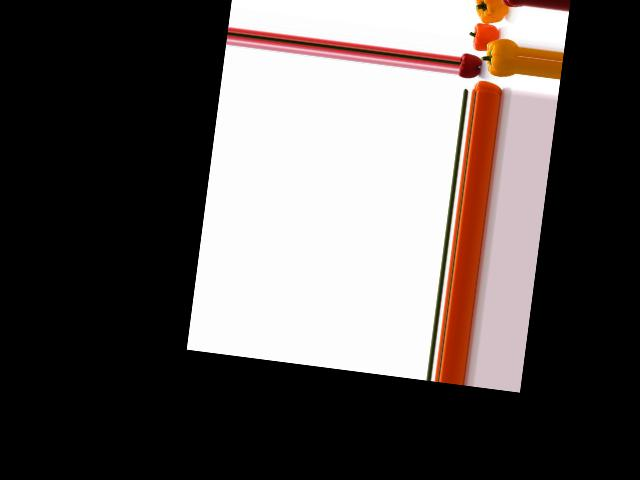bell_pepper: (471, 77, 503, 96)
